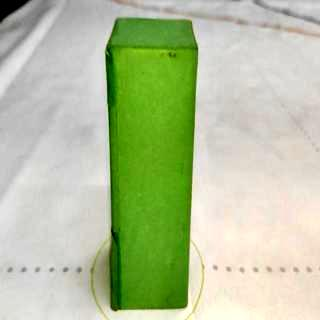greenbox: (104, 15, 200, 308)
